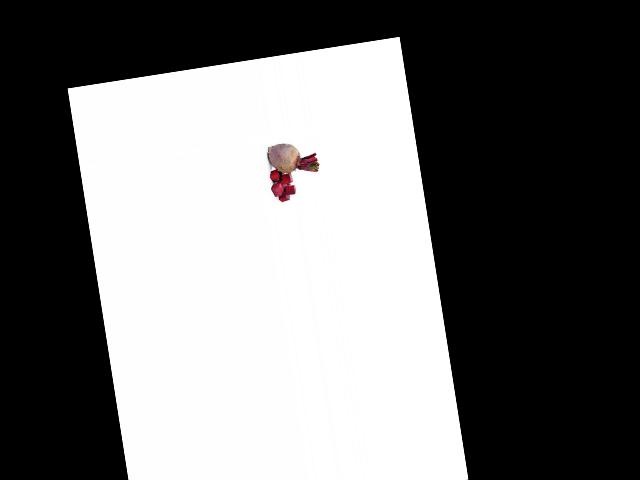beet: (266, 138, 319, 179)
